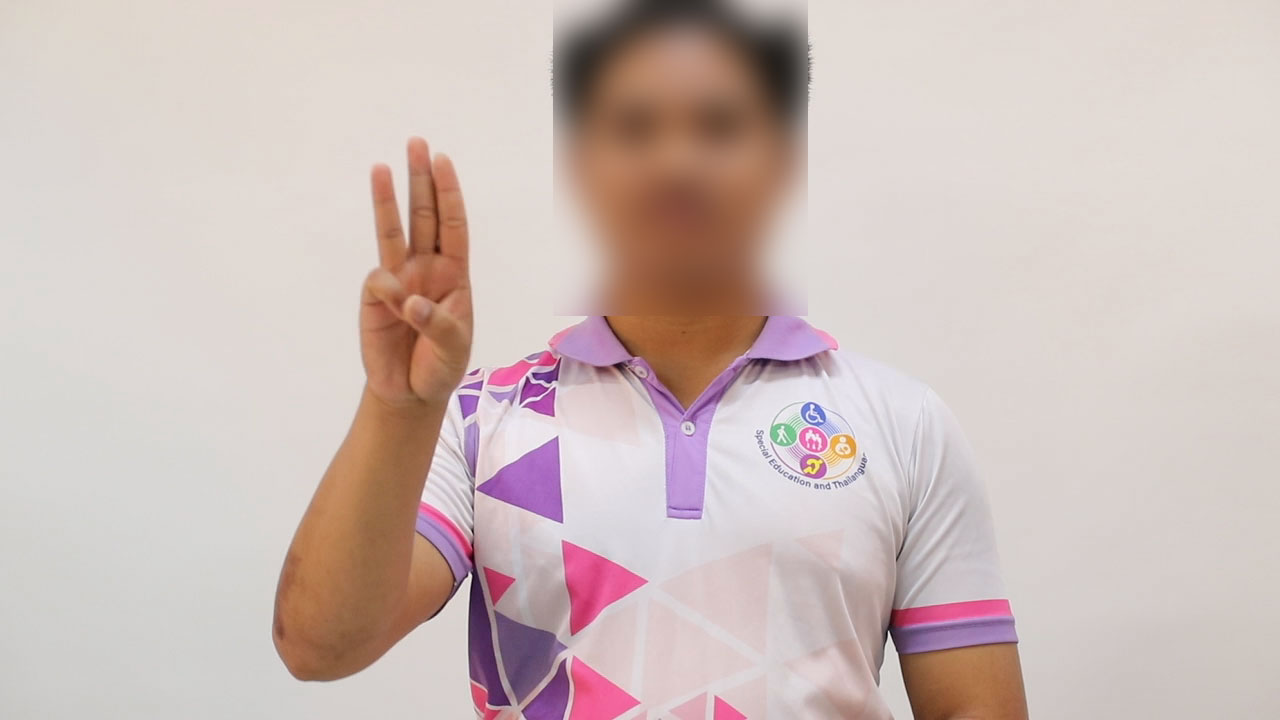wor: (353, 131, 483, 419)
